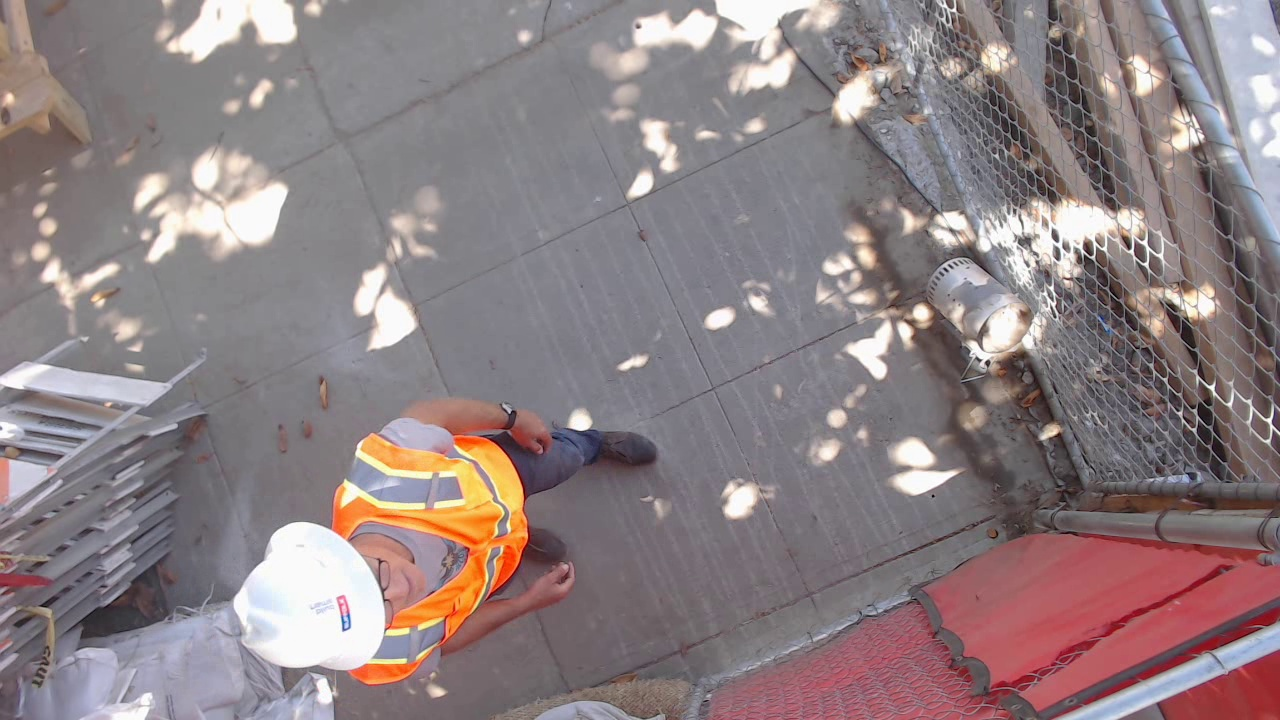person: (466, 5, 688, 168)
safetyvest: (468, 1, 695, 78)
